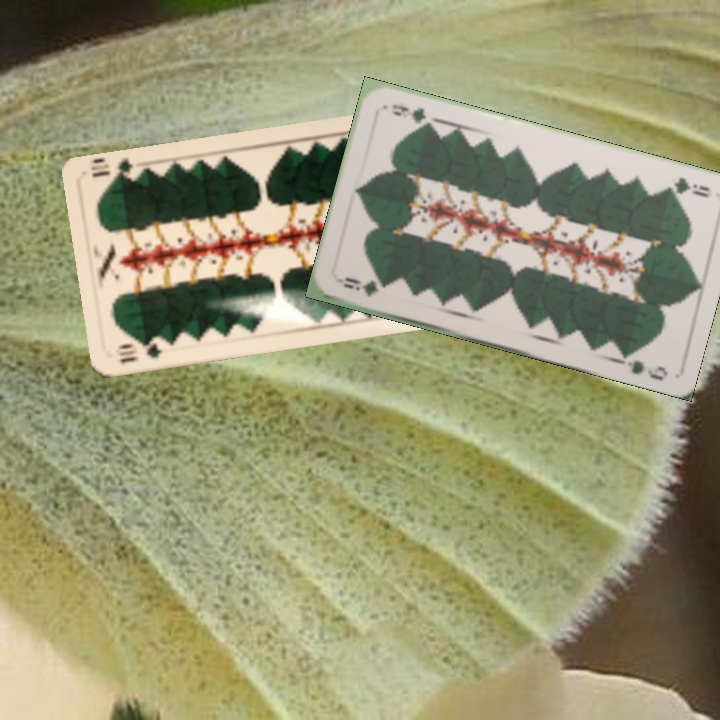G10: (115, 338, 164, 366)
G9: (660, 173, 713, 200), (339, 273, 381, 299)
